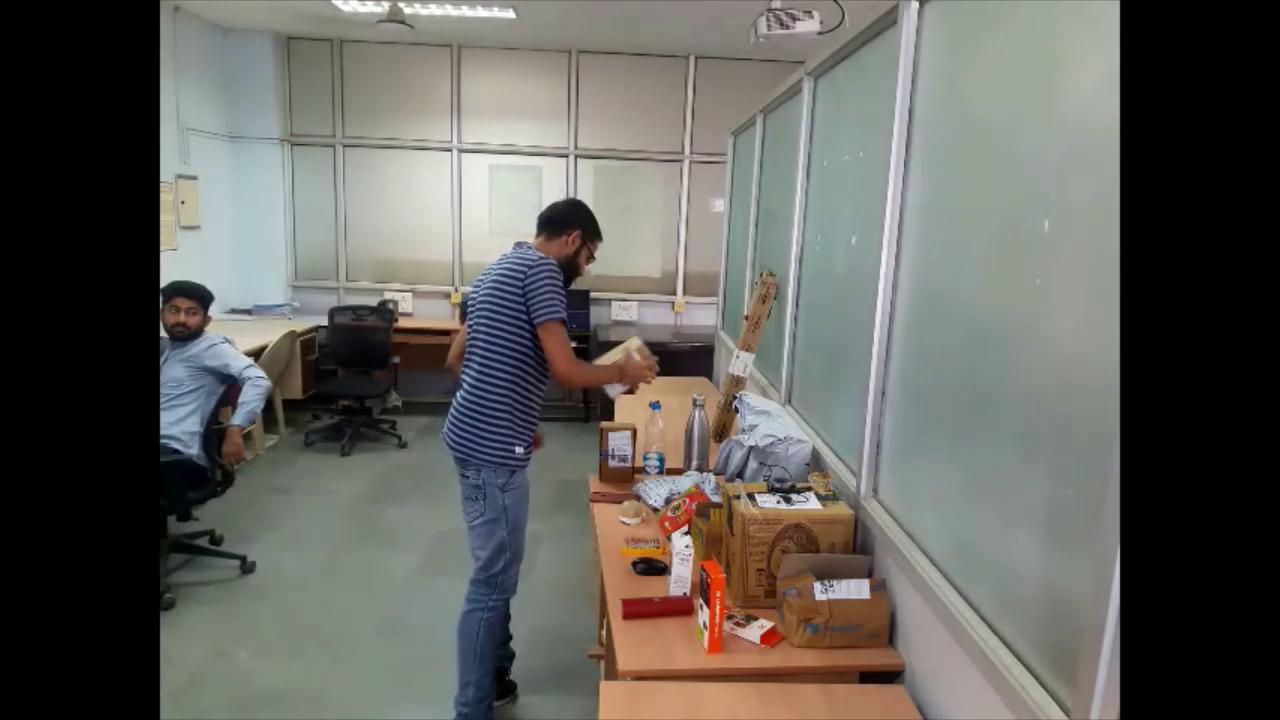Normal: (431, 166, 655, 720)
